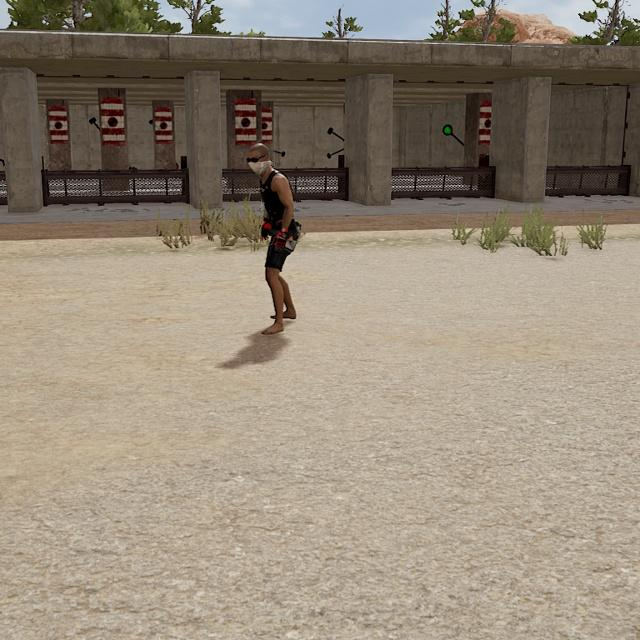head: (244, 142, 275, 177)
people: (241, 140, 304, 340)
